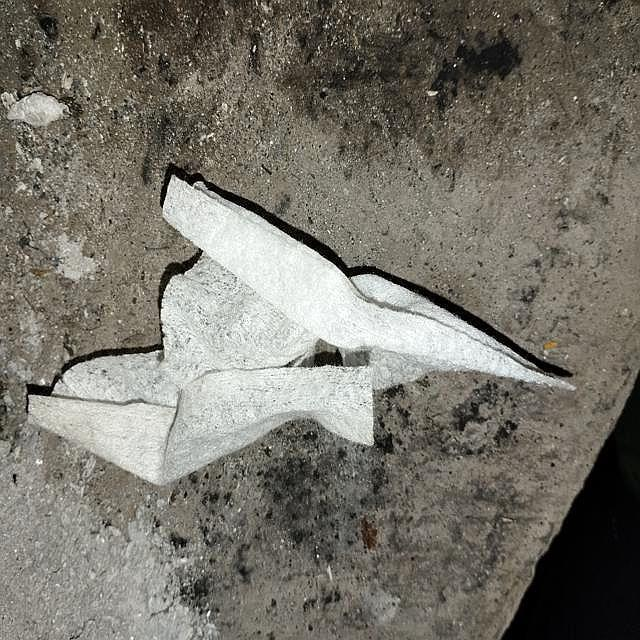Biodegradable: (30, 172, 574, 484)
